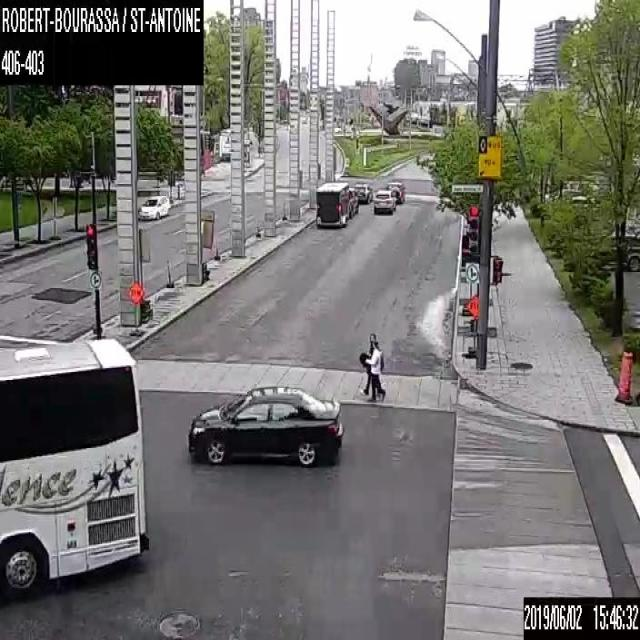bus: (0, 335, 149, 597)
construction: (138, 227, 152, 320), (200, 208, 214, 279), (615, 350, 634, 402), (126, 280, 144, 334), (464, 292, 478, 357), (49, 194, 59, 240), (167, 170, 174, 202)
pedestrian: (364, 339, 386, 401), (359, 332, 380, 394)
vehicle: (187, 381, 346, 468), (316, 180, 358, 227), (137, 194, 170, 219), (623, 229, 639, 270), (374, 189, 396, 213), (385, 180, 404, 203), (352, 183, 372, 203)
